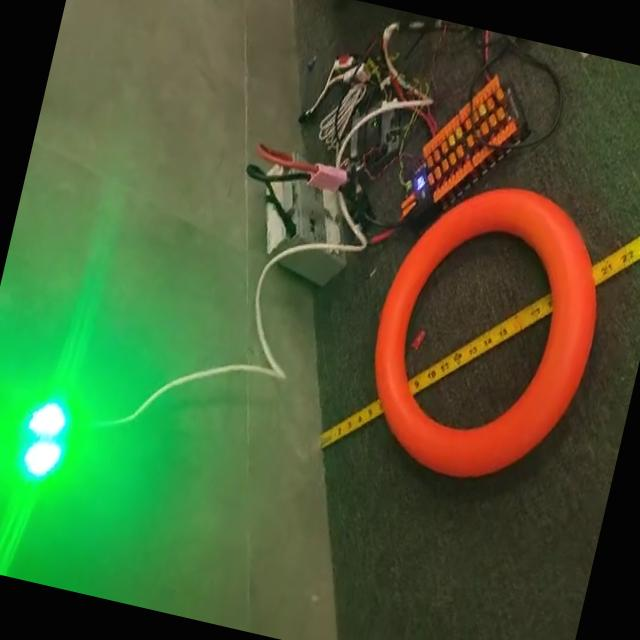note: (345, 160, 630, 503)
